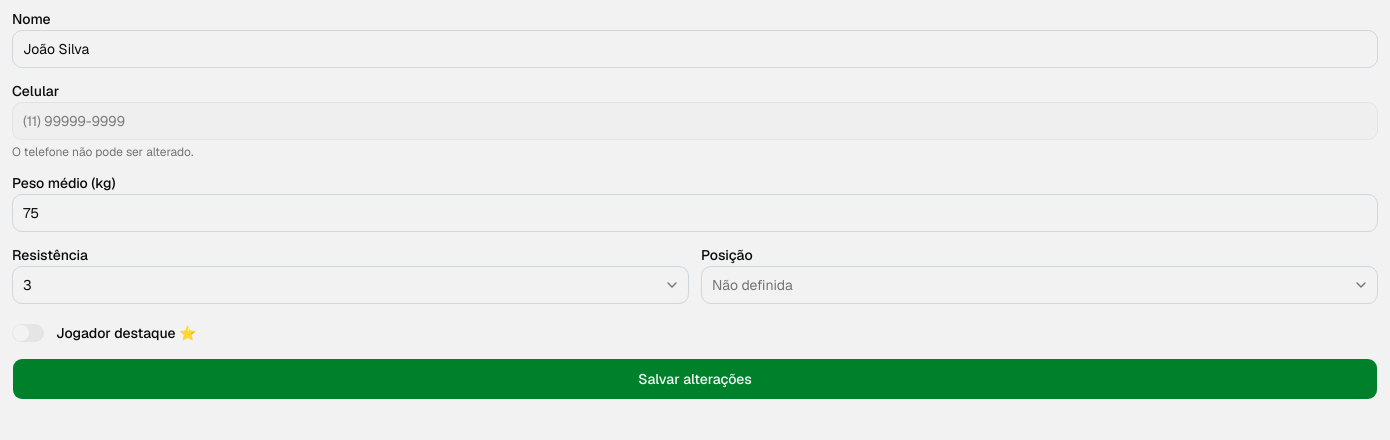
it: EditPlayerForm › validation › shows name error when name is cleared
Clear the field labelled "Nome". click: (695, 49)
box: [12, 30, 1378, 68]
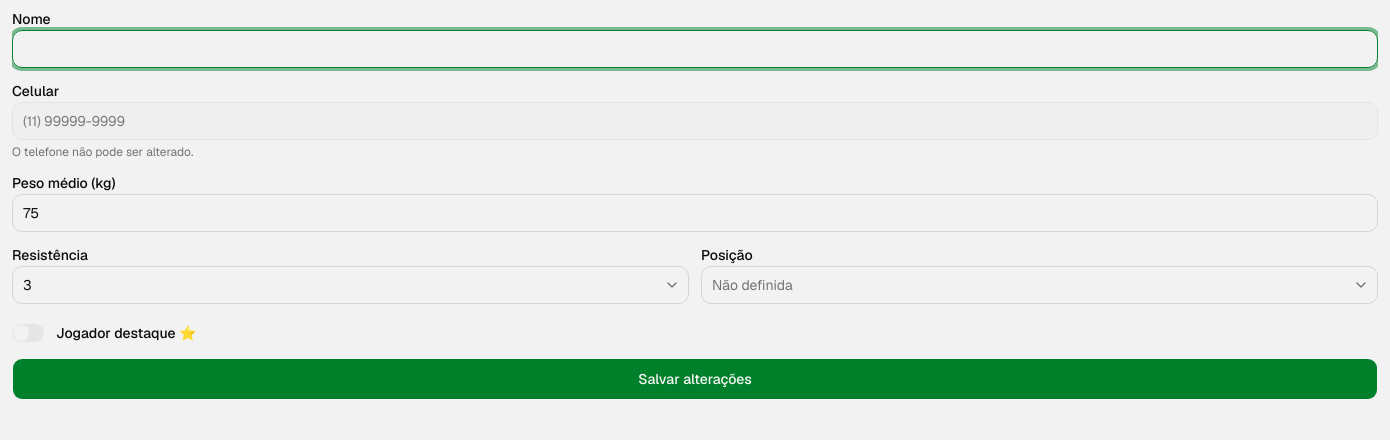
Click the button "Salvar alterações". click: (695, 379)
box: [12, 358, 1378, 400]
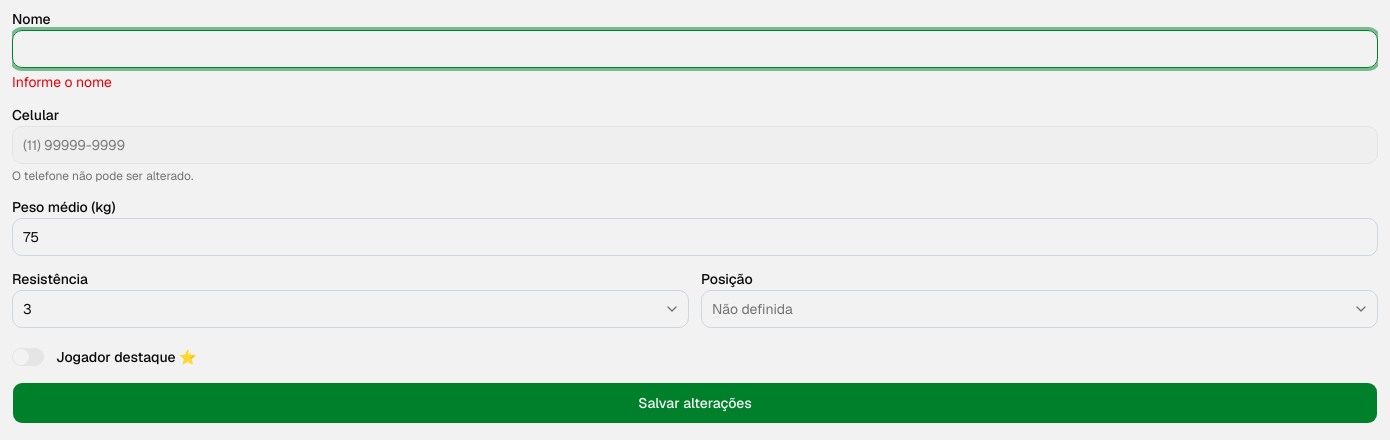
Check: the text "Informe o nome" is shown, box [12, 73, 112, 91]
